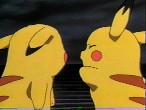pikachu: (78, 1, 146, 108), (1, 17, 70, 110)
